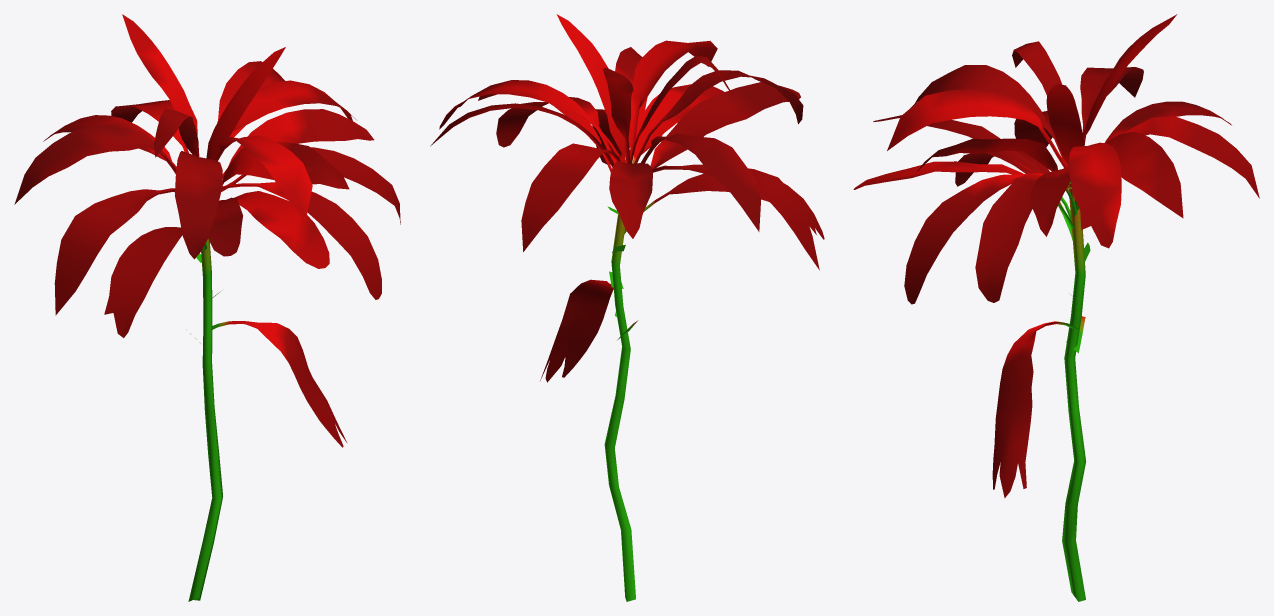
The model's file is Var4_LOD0.fbx.
3 renders of one model, left to right at view 1: azimuth 30°, elevation 25°; view 2: azimuth 150°, elevation 25°; view 3: azimuth 270°, elevation 25°, orthographic. The views are drawn at different scales.
Visible parts, largest first — view 1: _c42d_Var4_LOD0; view 2: _c42d_Var4_LOD0; view 3: _c42d_Var4_LOD0.
Part boxes in pixels (x1=…): _c42d_Var4_LOD0: x1=14, y1=14, x2=400, y2=601; _c42d_Var4_LOD0: x1=430, y1=14, x2=824, y2=601; _c42d_Var4_LOD0: x1=853, y1=14, x2=1259, y2=601.
Bounding box in the file's own units: 33.99 × 54.51 × 35.05.
